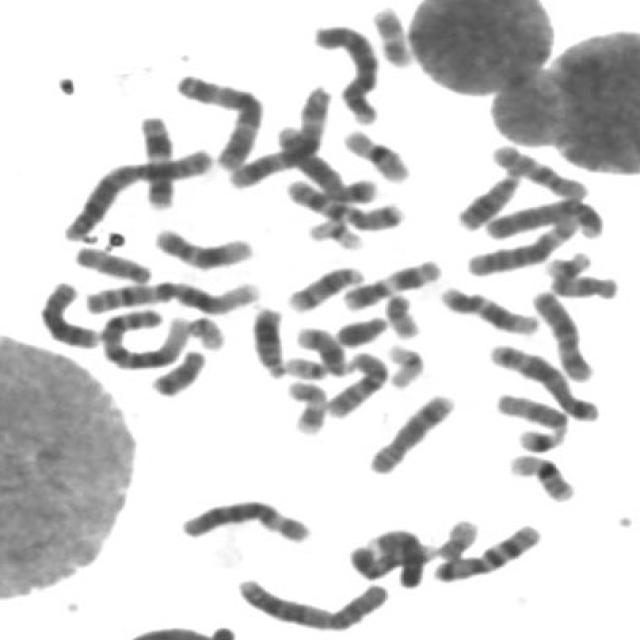A1: (76, 270, 265, 316), (92, 300, 193, 371)
A2: (56, 140, 216, 242), (228, 567, 395, 633)
A3: (222, 77, 334, 190), (168, 64, 266, 170)
B4: (304, 15, 385, 126), (477, 191, 608, 242)
B5: (482, 334, 604, 424), (277, 123, 382, 206)
C10: (483, 136, 593, 200), (318, 344, 392, 419)
C11: (334, 250, 445, 312), (131, 106, 179, 211)
C12: (431, 277, 543, 337), (146, 219, 256, 271)
C6: (460, 200, 584, 278), (171, 491, 315, 545)
C7: (425, 516, 545, 584), (279, 170, 410, 232)
C8: (360, 386, 460, 476), (32, 273, 114, 352)
C9: (342, 528, 437, 583), (340, 532, 440, 582)
D13: (448, 164, 526, 231), (244, 296, 290, 379)
D14: (279, 257, 367, 314), (288, 319, 352, 376)
D15: (67, 238, 155, 286), (489, 390, 574, 434)
E16: (334, 120, 415, 184), (500, 444, 580, 503)
E17: (364, 0, 417, 69), (280, 372, 331, 437)
E18: (143, 341, 209, 398), (542, 266, 622, 300)
F19: (301, 210, 368, 252), (379, 334, 429, 390)
F20: (377, 286, 425, 340), (432, 517, 480, 567)
G21: (538, 244, 596, 280), (510, 421, 567, 453)
G22: (179, 307, 228, 352), (277, 348, 333, 380)
X: (524, 281, 598, 383)
Y: (328, 306, 391, 348)
